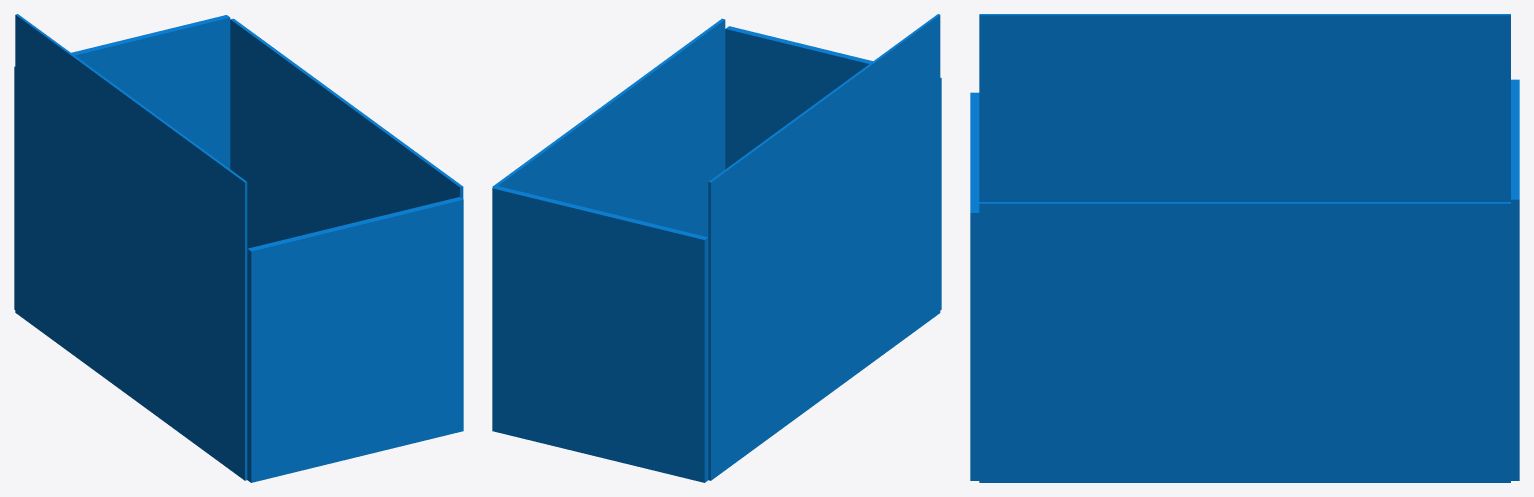
The model's file is world2.glb.
3 renders of one model, left to right at view 1: azimuth 30°, elevation 25°; view 2: azimuth 150°, elevation 25°; view 3: azimuth 270°, elevation 25°, orthographic. The views are drawn at different scales.
Visible parts, largest first — view 1: Cube.001; view 2: Cube.001; view 3: Cube.001.
Boxes of the visible parts, x1=… form: Cube.001: x1=14, y1=14, x2=463, y2=482; Cube.001: x1=492, y1=14, x2=941, y2=482; Cube.001: x1=970, y1=14, x2=1519, y2=482.
Size of the model in its own units: 76.43 by 99.76 by 144.
